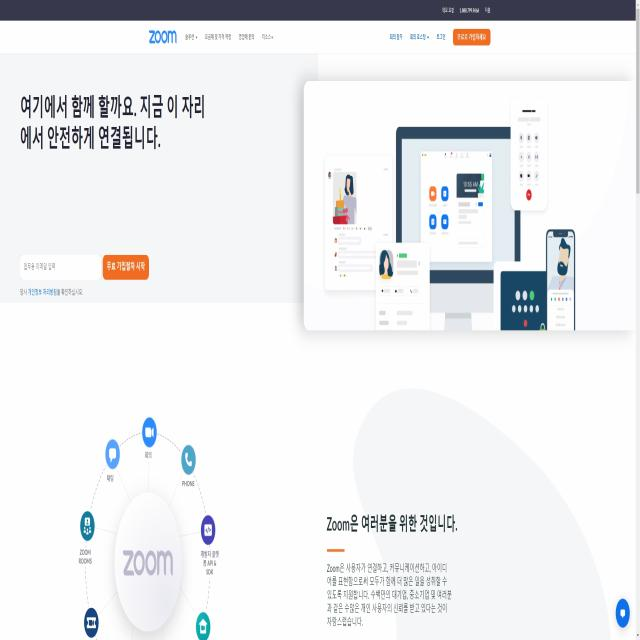menu-bar: (387, 27, 493, 49)
tab-bar: (146, 23, 278, 49), (441, 2, 494, 18)
